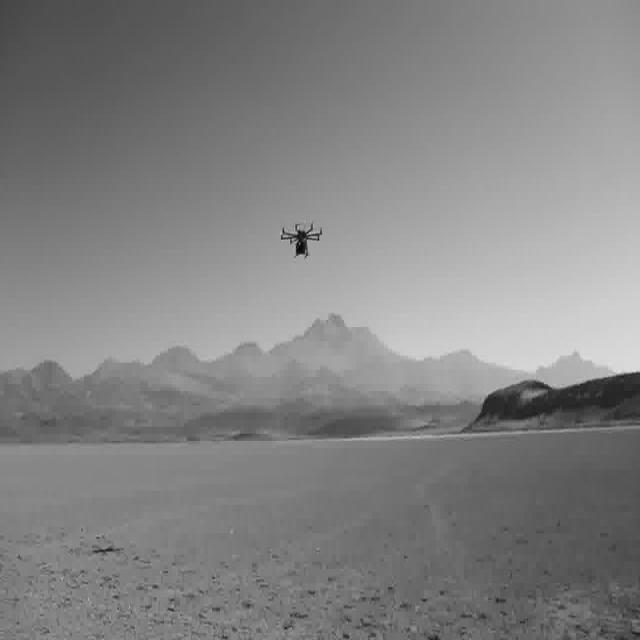drone: (275, 217, 324, 268)
